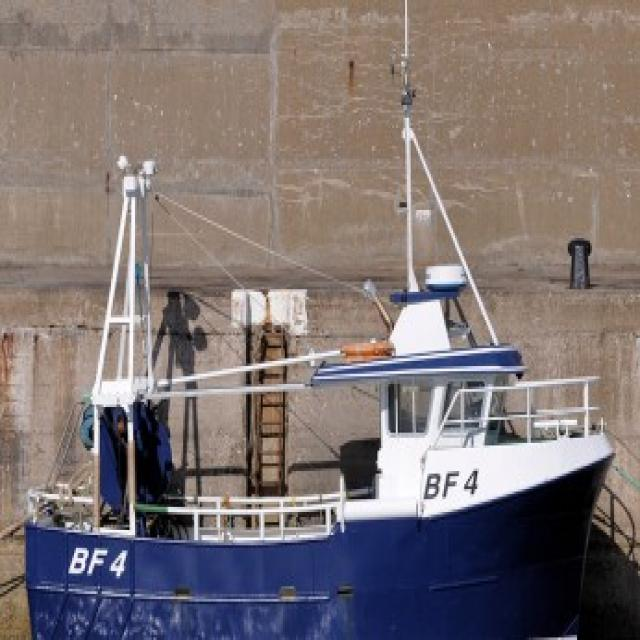boat: (22, 158, 619, 640)
